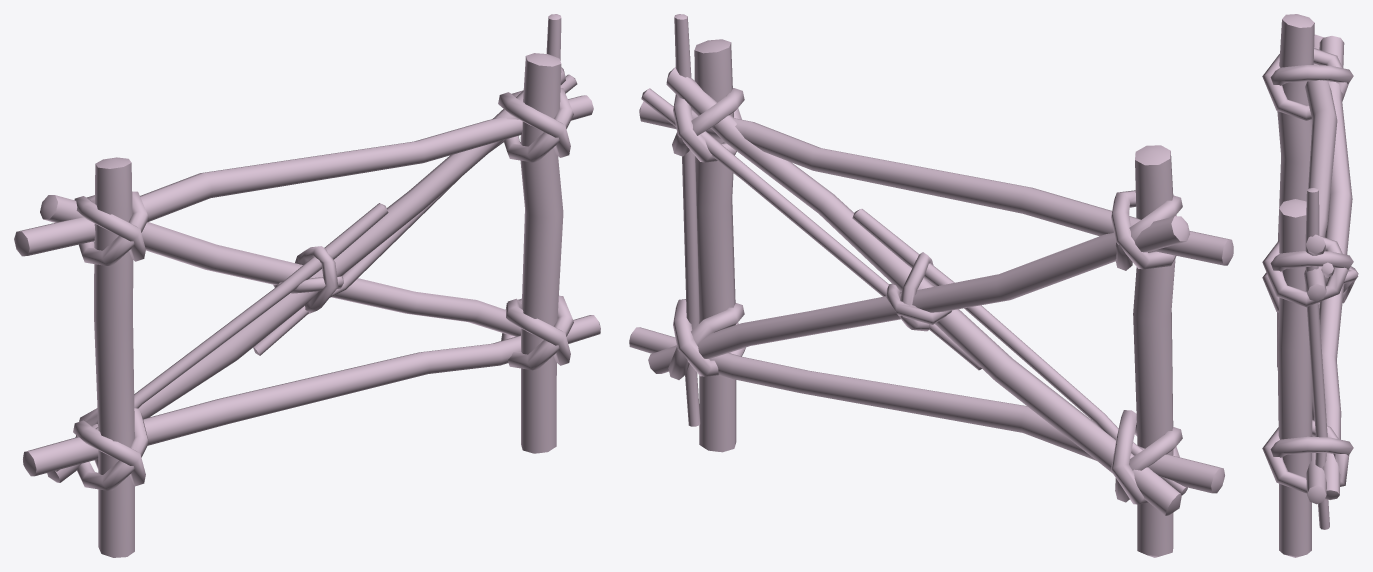
The model's file is fence_03.fbx.
The picture shows the model from 3 angles, left to right: view 1: azimuth 30°, elevation 25°; view 2: azimuth 150°, elevation 25°; view 3: azimuth 270°, elevation 25°; orthographic projection. The views are drawn at different scales.
Visible parts, largest first — view 1: Cylinder.013; view 2: Cylinder.013; view 3: Cylinder.013.
Boxes of the visible parts, x1,y1,x2,y2 form: Cylinder.013: [14, 14, 600, 557]; Cylinder.013: [629, 14, 1233, 557]; Cylinder.013: [1262, 14, 1358, 557].
Size of the model in its own units: 2.37 by 1.65 by 0.3788.
